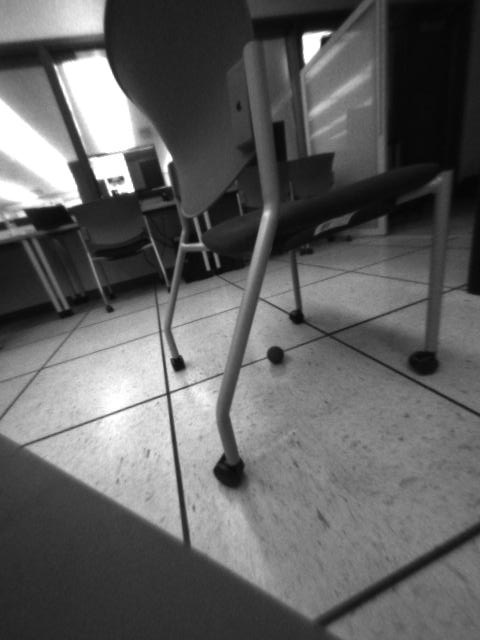dogtoy: (259, 340, 290, 371)
